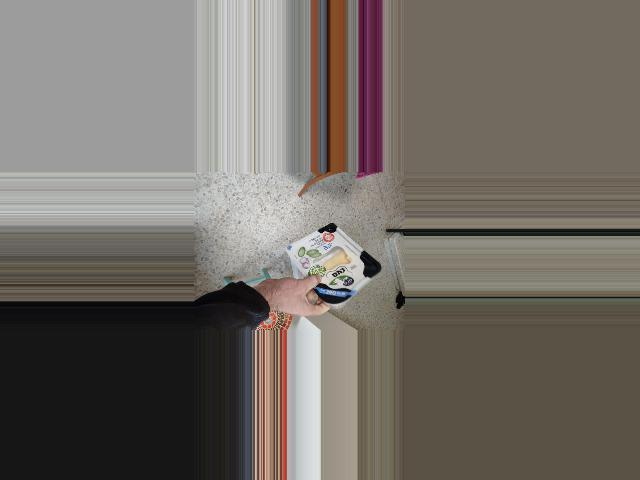cheese: (299, 217, 368, 327)
